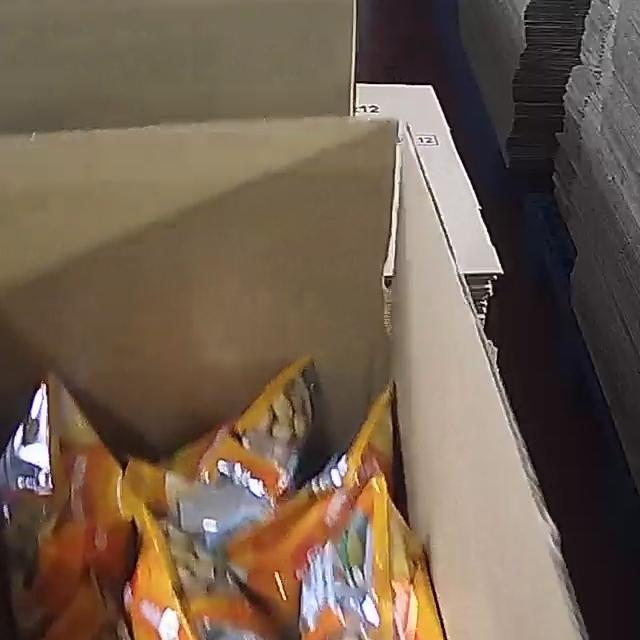cheese: (0, 351, 486, 640)
